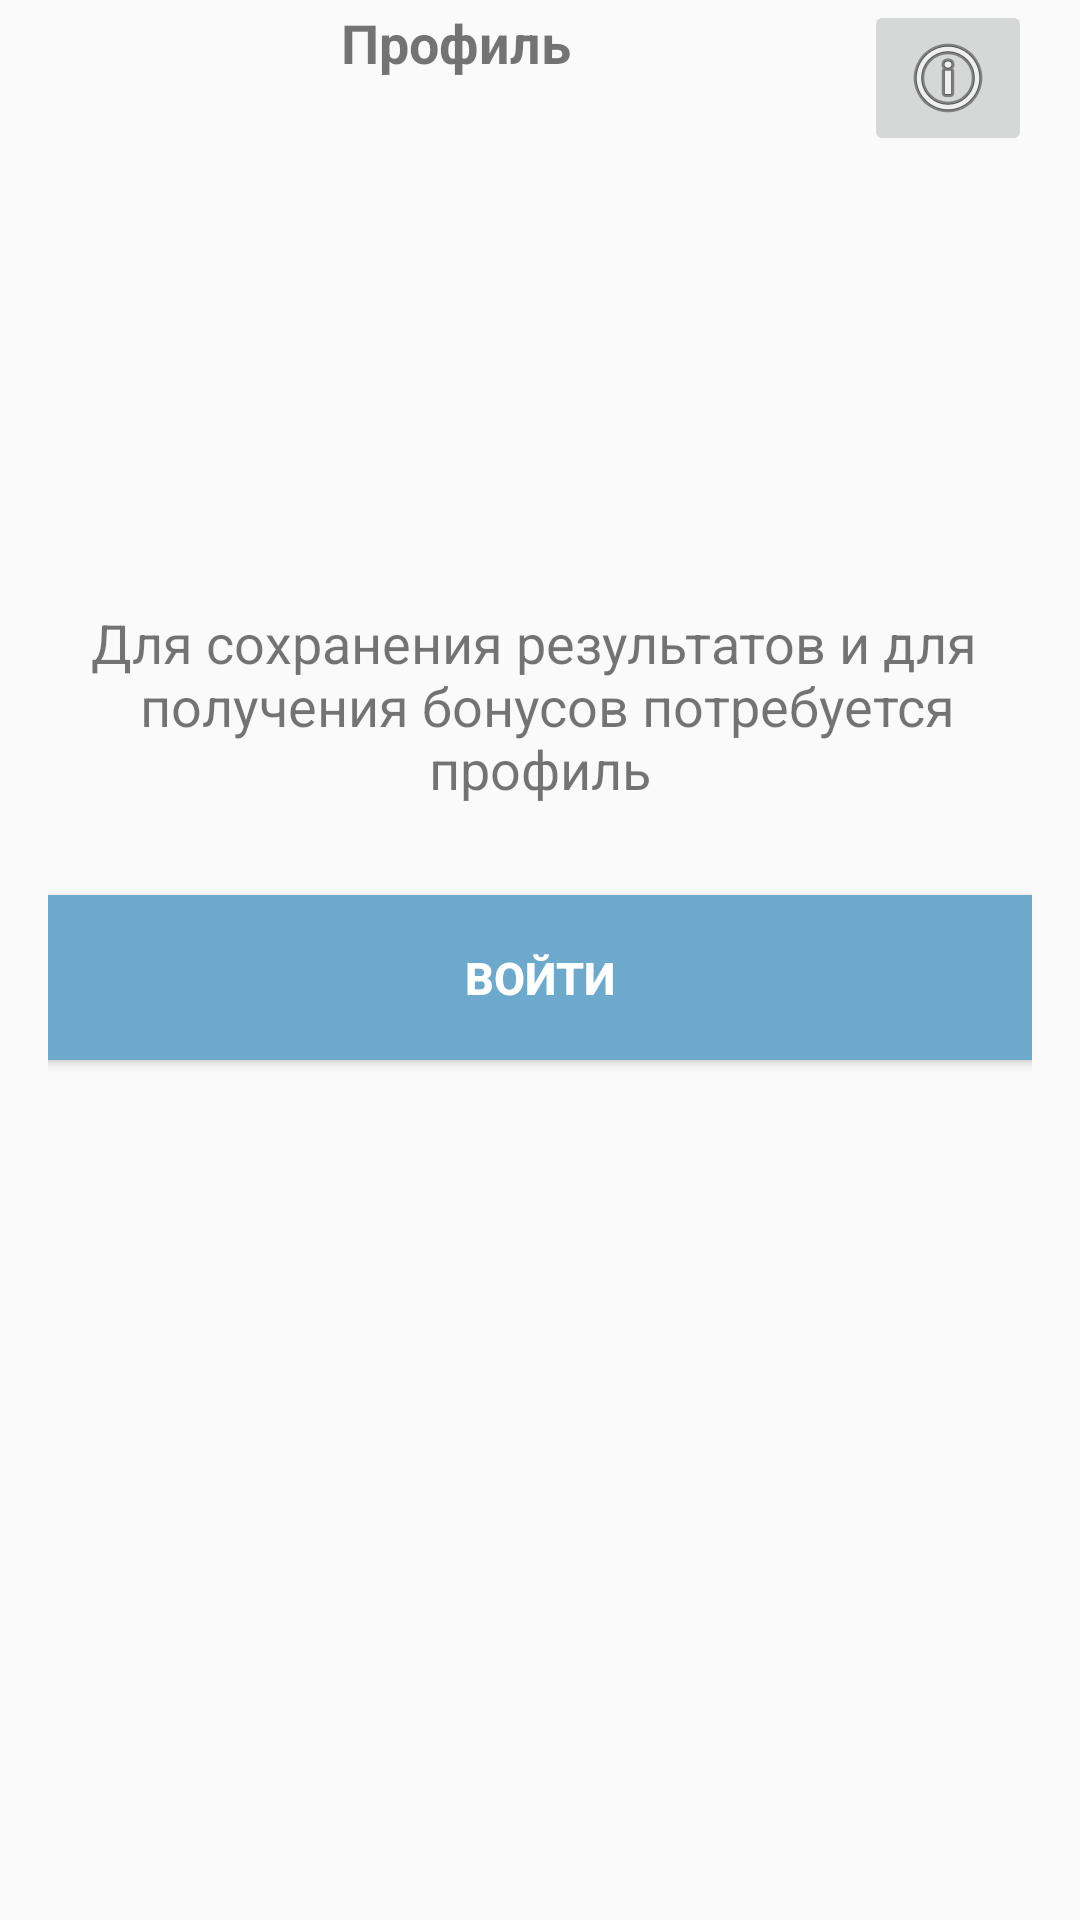

Locate icon controls on the screen. Image size 1080×1920, boxes as (x1, y1, x2, y2).
info details: (876, 18, 1020, 138)
